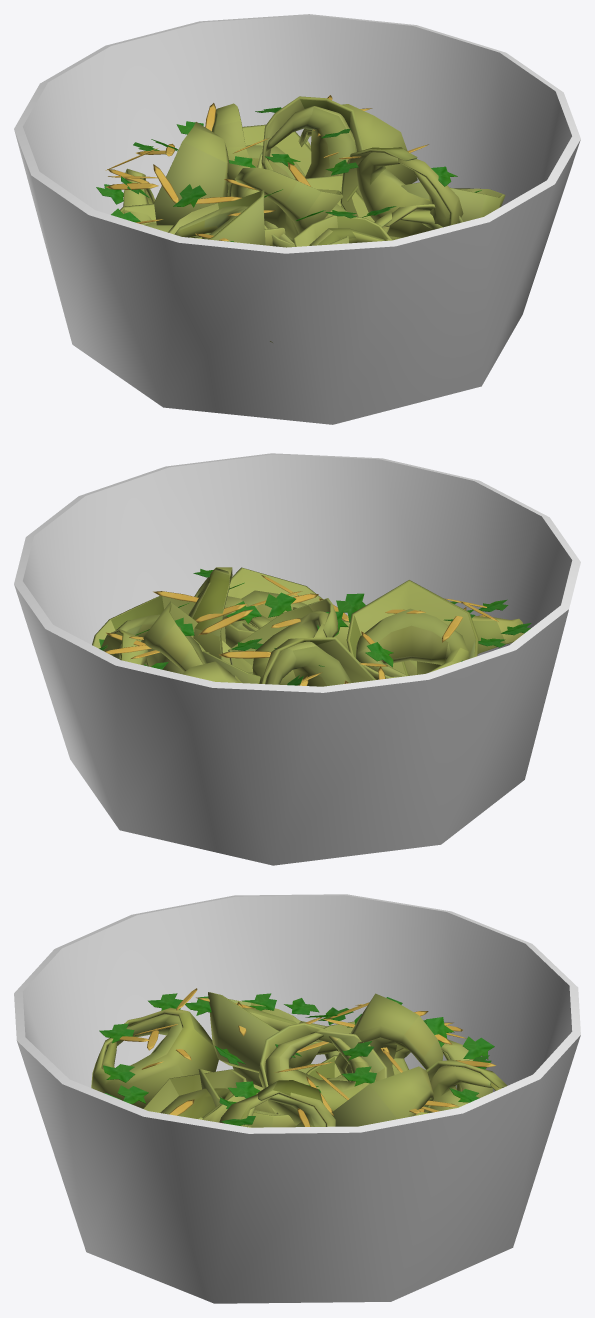
Rendered from Prato_Balanzoni.fbx.
The picture shows the model from 3 angles, top to bottom: view 1: azimuth 30°, elevation 25°; view 2: azimuth 150°, elevation 25°; view 3: azimuth 270°, elevation 25°; orthographic projection.
Parts seen in each view (by area): view 1: Circle.005, Torus.009; view 2: Circle.005, Torus.009; view 3: Circle.005, Torus.009.
Boxes of the visible parts, bbox=[...] form: Circle.005: bbox=[14, 14, 580, 424]; Torus.009: bbox=[120, 96, 505, 342]; Circle.005: bbox=[14, 453, 580, 865]; Torus.009: bbox=[92, 567, 524, 686]; Circle.005: bbox=[14, 894, 580, 1303]; Torus.009: bbox=[91, 992, 507, 1127].
Bounding box in the file's own units: 184 × 71.95 × 184.
2 materials, 1 textured.
